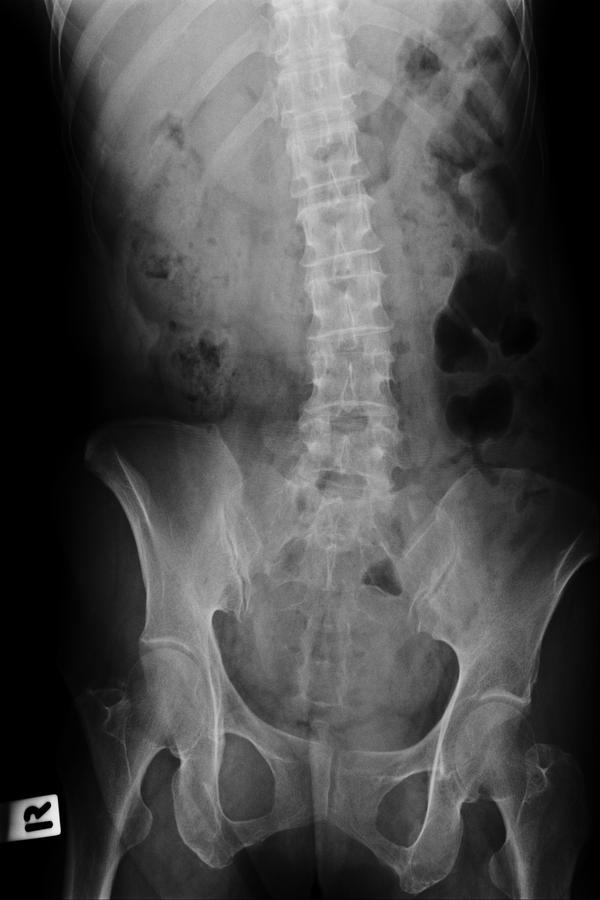lumbar scoliosis: (267, 8, 403, 567)
